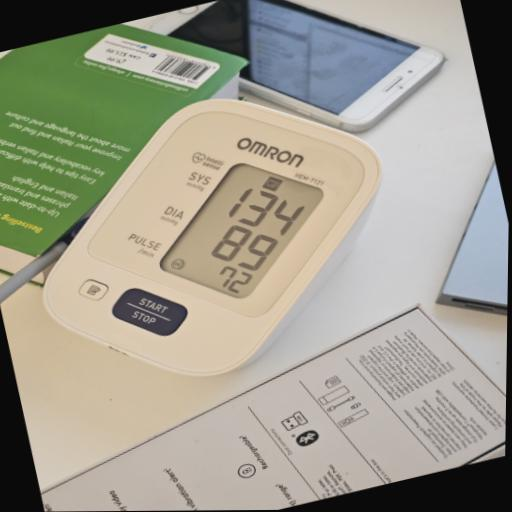lcd display: (137, 142, 356, 322)
